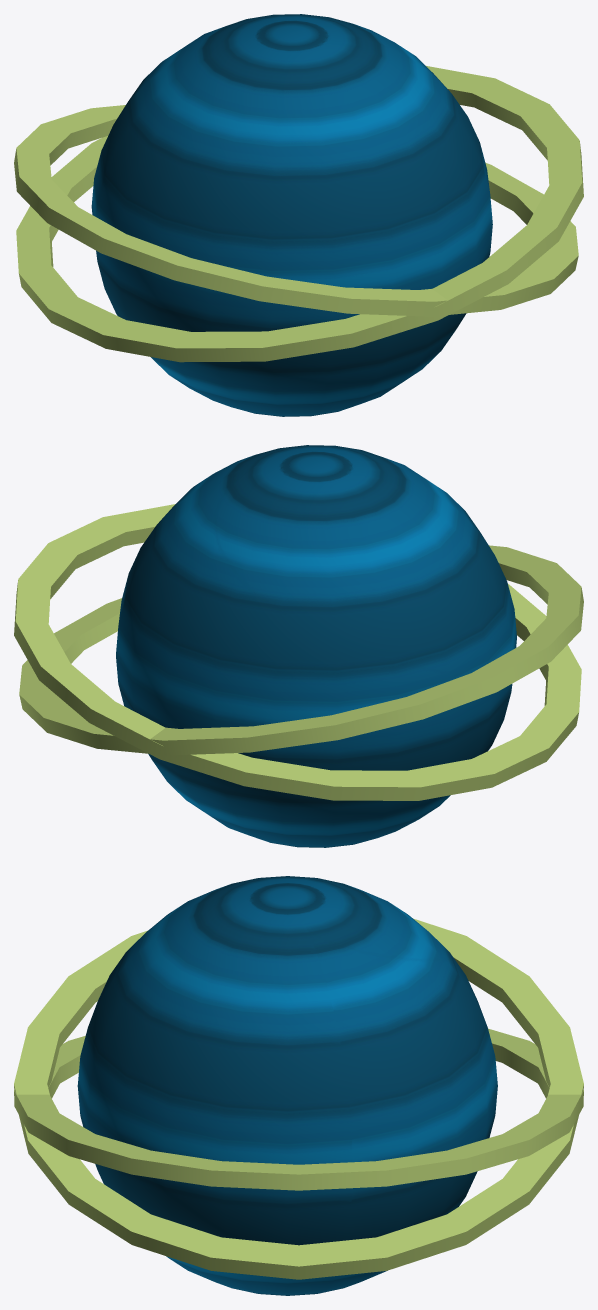
The model's file is earth.gltf.
3 views of the same model, one above another, from view 1: azimuth 30°, elevation 25°; view 2: azimuth 150°, elevation 25°; view 3: azimuth 270°, elevation 25° (orthographic). The views are drawn at different scales.
Visible parts, largest first — view 1: ringen_2, ringen1; view 2: ringen_2, ringen1; view 3: ringen_2, ringen1.
Part boxes in pixels (x1=…): ringen_2: x1=91, y1=14, x2=492, y2=416; ringen1: x1=14, y1=66, x2=583, y2=362; ringen_2: x1=116, y1=445, x2=516, y2=847; ringen1: x1=14, y1=504, x2=583, y2=800; ringen_2: x1=77, y1=876, x2=497, y2=1295; ringen1: x1=14, y1=918, x2=583, y2=1279.
Bounding box in the file's own units: 144 × 100 × 136.
Materials: 2 (1 with a texture image).
